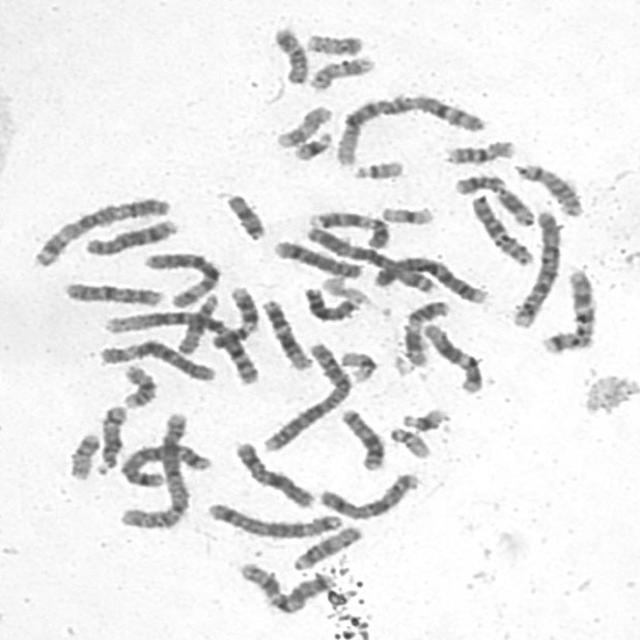A1: (96, 304, 262, 387), (331, 87, 488, 168)
A2: (257, 339, 356, 453), (115, 409, 195, 532)
A3: (28, 192, 174, 270), (302, 222, 439, 295)
B4: (506, 204, 564, 329), (368, 251, 491, 306)
B5: (202, 497, 344, 539), (115, 438, 216, 490)
C10: (465, 190, 536, 268), (59, 277, 167, 308)
C11: (449, 168, 538, 228), (398, 295, 454, 367)
C12: (418, 318, 485, 395), (258, 294, 316, 371)
C6: (94, 334, 219, 384), (138, 246, 223, 309)
C7: (234, 558, 338, 616), (536, 264, 601, 356)
C8: (79, 214, 180, 258), (269, 235, 367, 279)
C9: (206, 282, 262, 352), (304, 206, 393, 250)
D13: (335, 403, 389, 472), (299, 282, 362, 323)
D14: (510, 158, 587, 219), (90, 400, 130, 476)
D15: (288, 520, 366, 572), (170, 289, 223, 357)
E16: (439, 133, 518, 166), (117, 359, 160, 410)
E17: (272, 100, 334, 149), (303, 51, 376, 92)
E18: (269, 21, 311, 85), (220, 188, 269, 241)
F19: (335, 346, 380, 384), (376, 200, 438, 227)
F20: (63, 428, 103, 481), (301, 28, 365, 57)
G21: (288, 126, 335, 162), (398, 402, 452, 433)
G22: (384, 422, 434, 460), (346, 154, 406, 181)
X: (230, 436, 318, 510), (313, 467, 423, 522)
